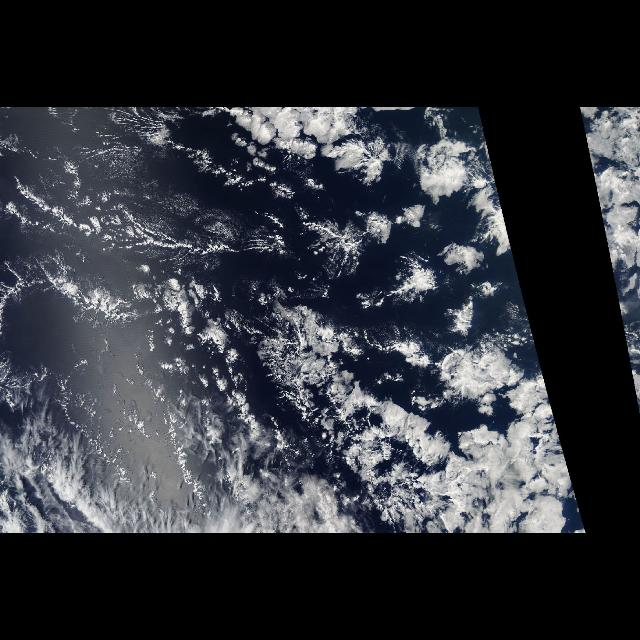Fish: (4, 163, 372, 353)
Flower: (222, 109, 588, 534), (579, 108, 639, 416)
